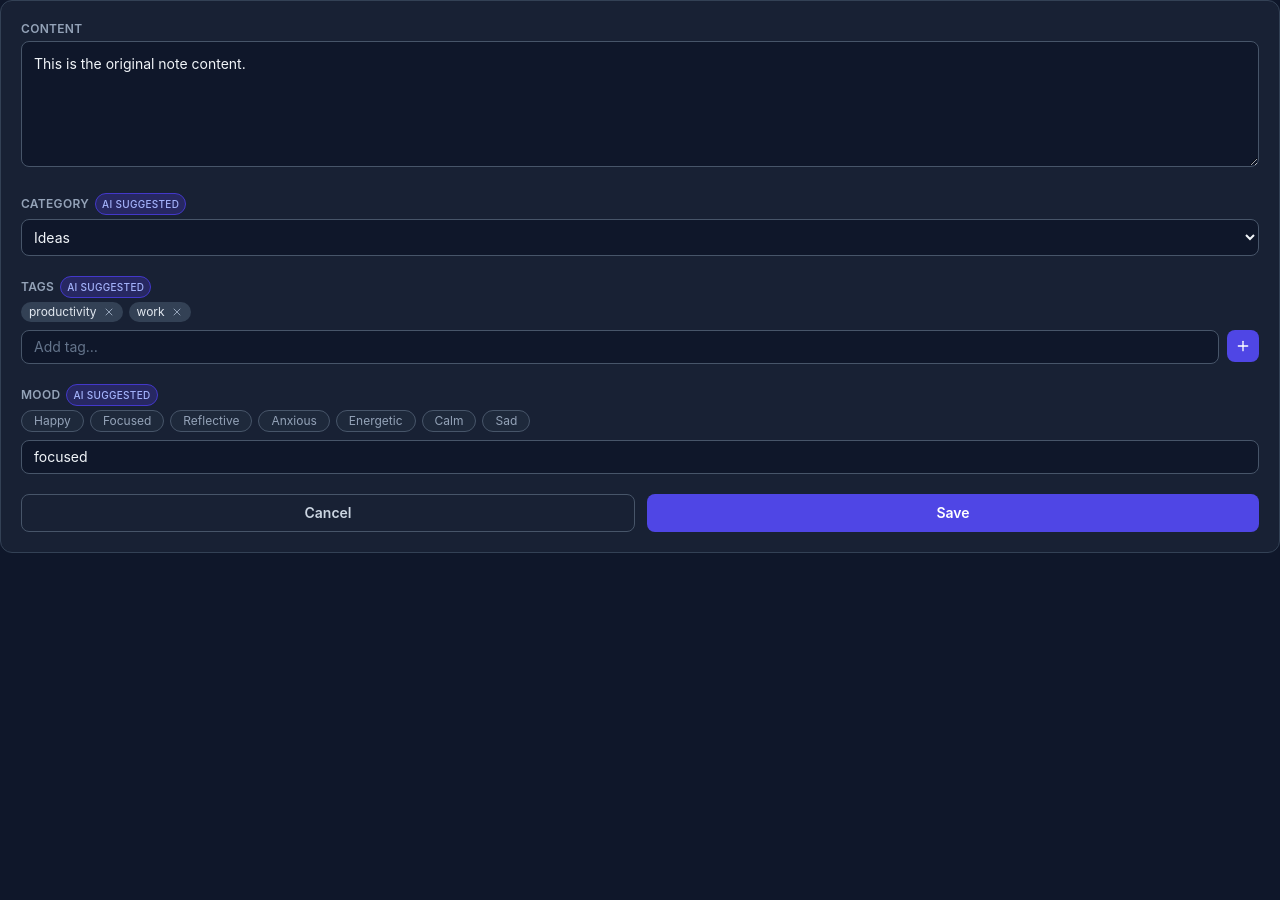
it: NoteEditor (Task 2.3 — B8 manual override) › switching category dropdown from Ideas to Music reveals music_metadata section
The width and height of the screenshot is (1280, 900).
Step 1. Select "Music" in the dropdown labelled "Category AI suggested" → (640, 238), box [21, 219, 1259, 256]
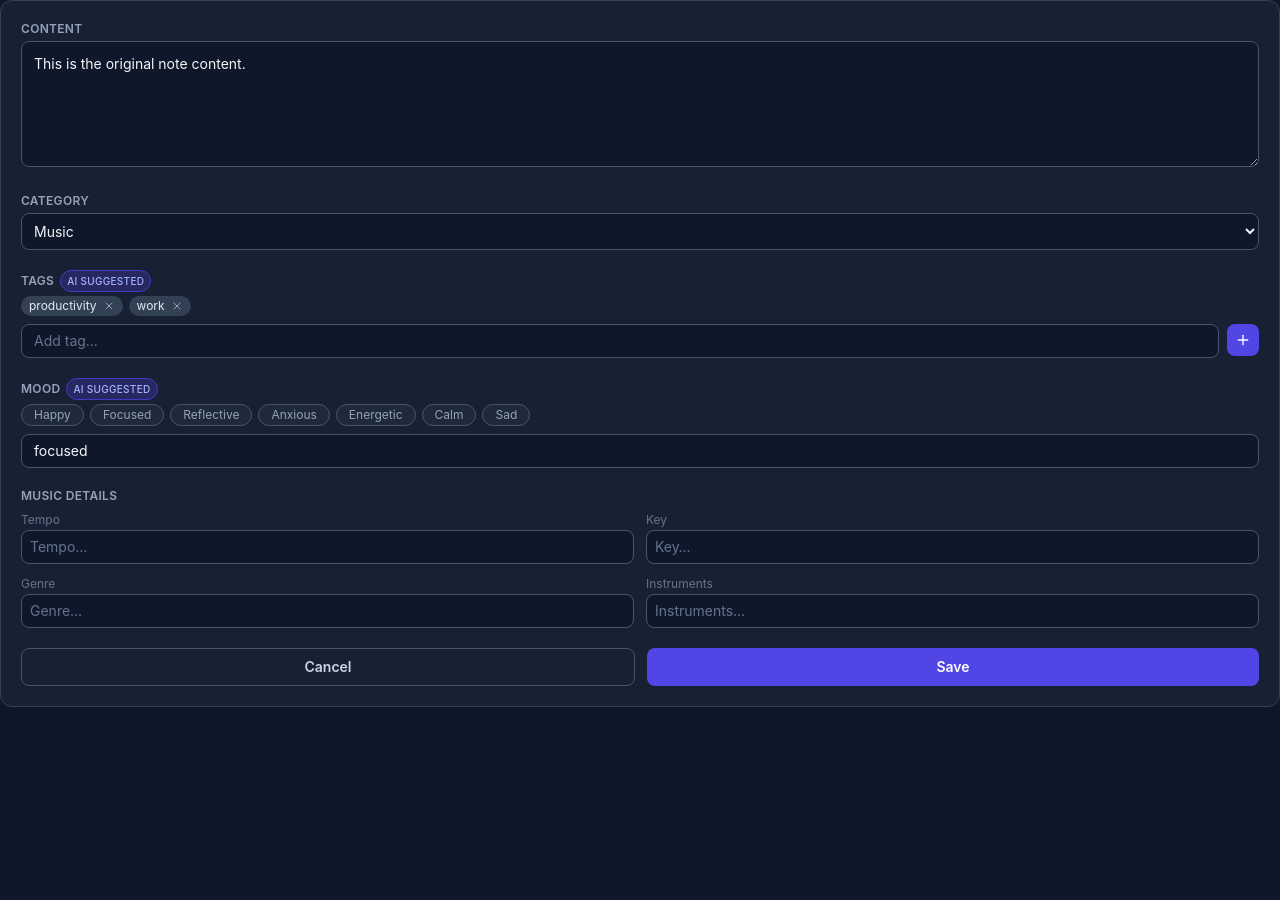
Expected: the element with test id "music-metadata" is shown, [21, 488, 1259, 628]
